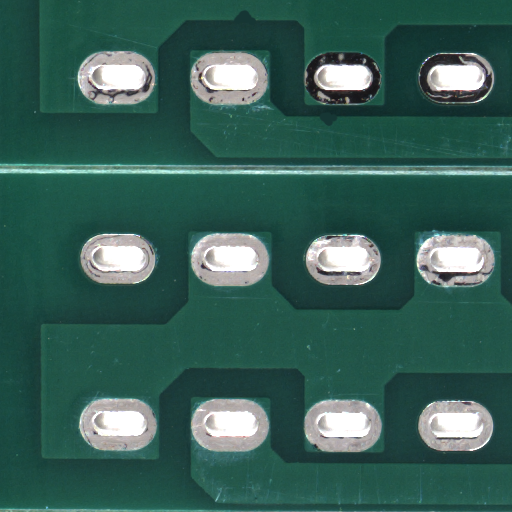Mouse_bite: (244, 16, 265, 29), (328, 120, 346, 134)
